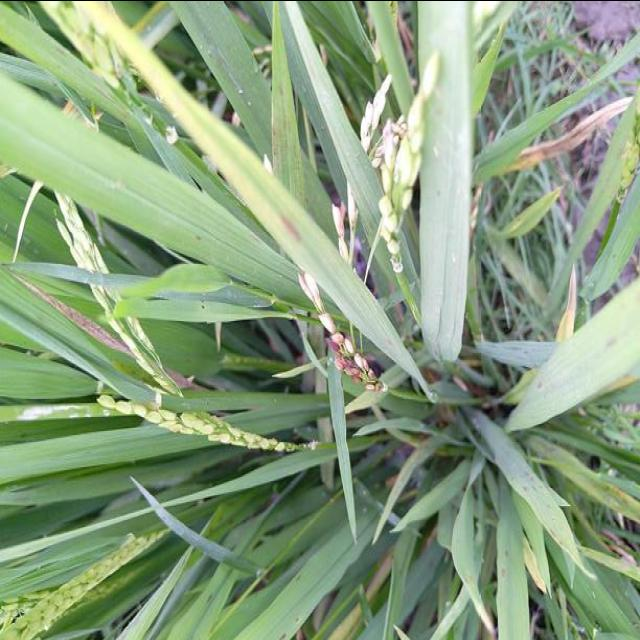Panicle Blight: (325, 331, 385, 391), (333, 200, 347, 235)
